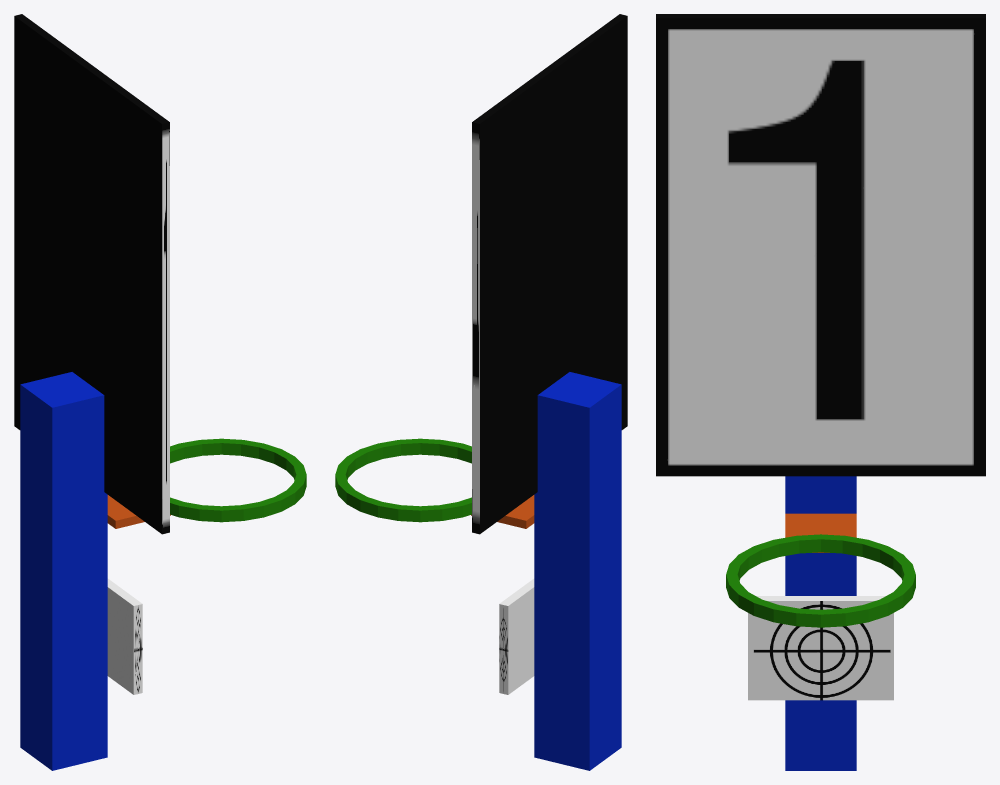
The model's file is sick_robot_day_2014_target_station_complete_1.dae.
The picture shows the model from 3 angles, left to right: view 1: azimuth 30°, elevation 25°; view 2: azimuth 150°, elevation 25°; view 3: azimuth 270°, elevation 25°; orthographic projection. The views are drawn at different scales.
Parts seen in each view (by area): view 1: Cube, Cube_003, Cylinder, Cube_001, Cube_004; view 2: Cube, Cube_003, Cylinder, Cube_001, Cube_004; view 3: Cube, Cube_001, Cube_003, Cylinder, Cube_004.
Part boxes in pixels (x1,y1,x2,y2): Cube: [14, 14, 169, 534]; Cube_003: [20, 372, 107, 770]; Cylinder: [170, 438, 306, 522]; Cube_001: [107, 578, 142, 694]; Cube_004: [107, 495, 170, 528]; Cube: [472, 14, 627, 534]; Cube_003: [534, 372, 621, 770]; Cylinder: [335, 438, 471, 522]; Cube_001: [499, 578, 534, 694]; Cube_004: [471, 495, 534, 528]; Cube: [656, 14, 985, 476]; Cube_001: [748, 596, 893, 700]; Cube_003: [785, 476, 856, 770]; Cylinder: [726, 534, 915, 627]; Cube_004: [785, 513, 856, 552].
Size of the model in its own units: 0.5801 by 0.5736 by 1.45.
Materials: 5 (2 with a texture image).
